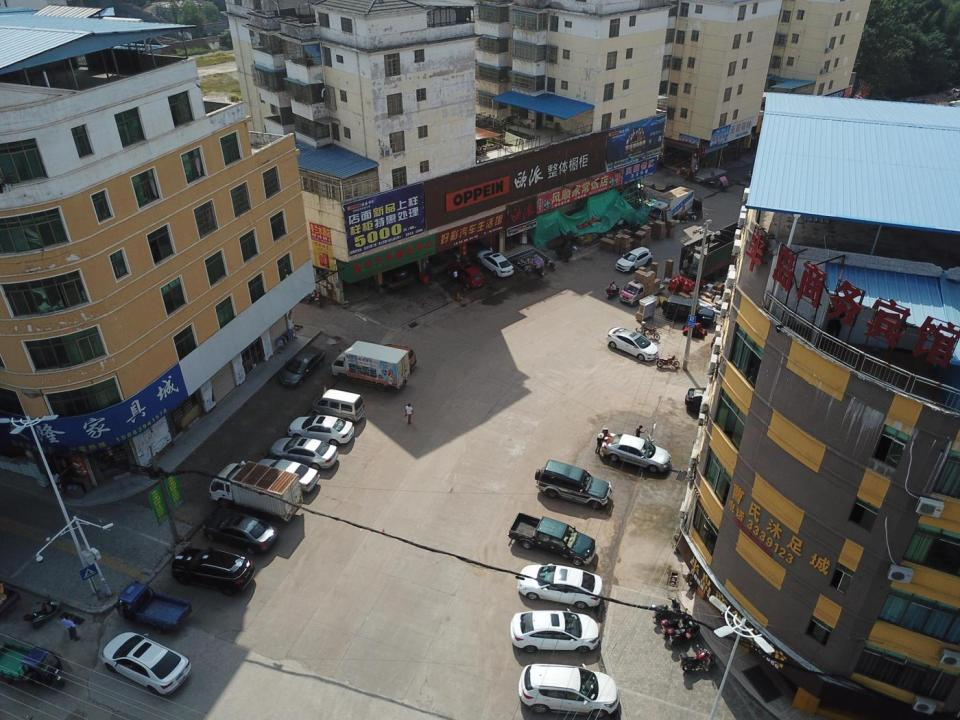car: (100, 632, 193, 696), (520, 663, 621, 717), (513, 608, 600, 656), (172, 544, 254, 592), (519, 563, 604, 608), (534, 461, 610, 511), (205, 509, 278, 551), (271, 437, 339, 474), (255, 457, 321, 493), (608, 436, 671, 473), (289, 415, 354, 446), (606, 326, 658, 362), (664, 294, 717, 327), (280, 346, 322, 387), (378, 344, 417, 372), (478, 249, 515, 278), (616, 247, 653, 273), (687, 388, 726, 412), (452, 261, 484, 287)
truck: (209, 461, 303, 526), (680, 222, 788, 278), (508, 512, 596, 566), (329, 338, 412, 393), (120, 584, 191, 634), (648, 186, 694, 222), (620, 279, 666, 306)
van: (317, 390, 366, 423)
